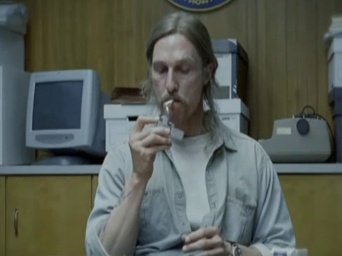smoke: (162, 98, 176, 108)
